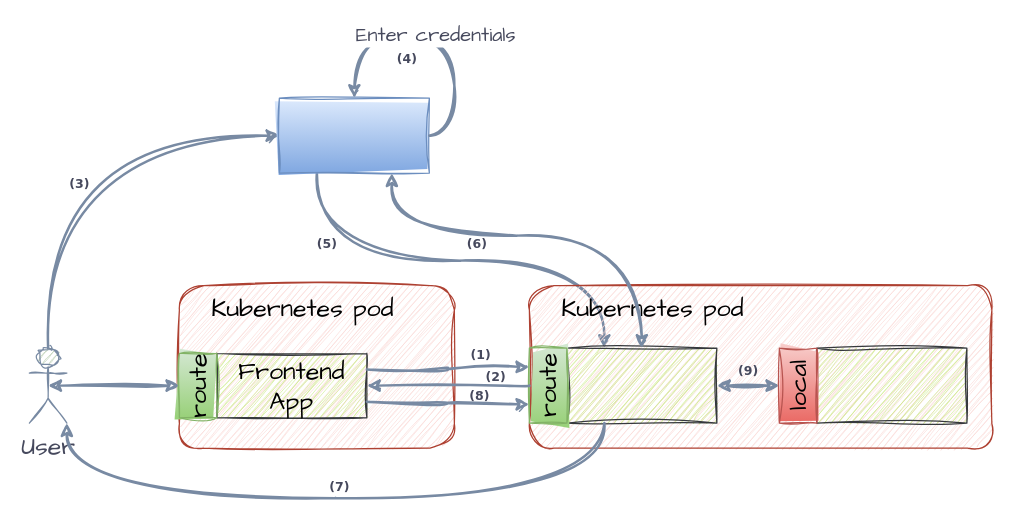
Image size: 1014x530. Some labels were removed from this diagram. Each missing label, with the box of its shape:
Auth proxy: (566, 347, 717, 423)
Backend app: (816, 347, 967, 423)
OIDC provider: (278, 97, 429, 173)
